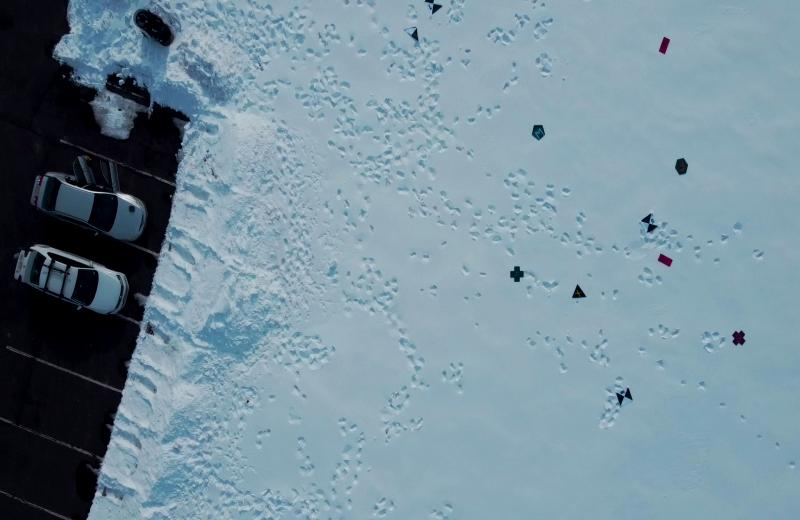Cross: (509, 265, 526, 283), (731, 328, 747, 346)
Hexagon: (674, 158, 690, 176)
Pentagon: (530, 123, 547, 144)
Rectangle: (656, 36, 672, 54), (658, 252, 674, 269)
Triangle: (572, 282, 588, 303)
